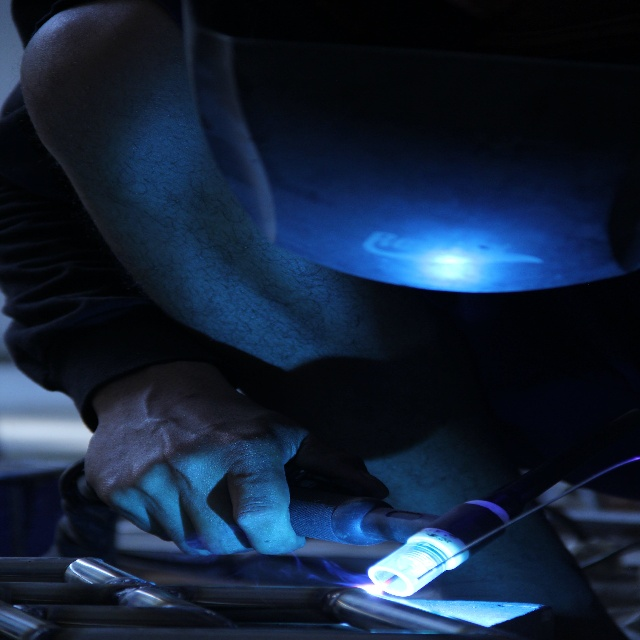Sin_guantes: (81, 348, 390, 557)
